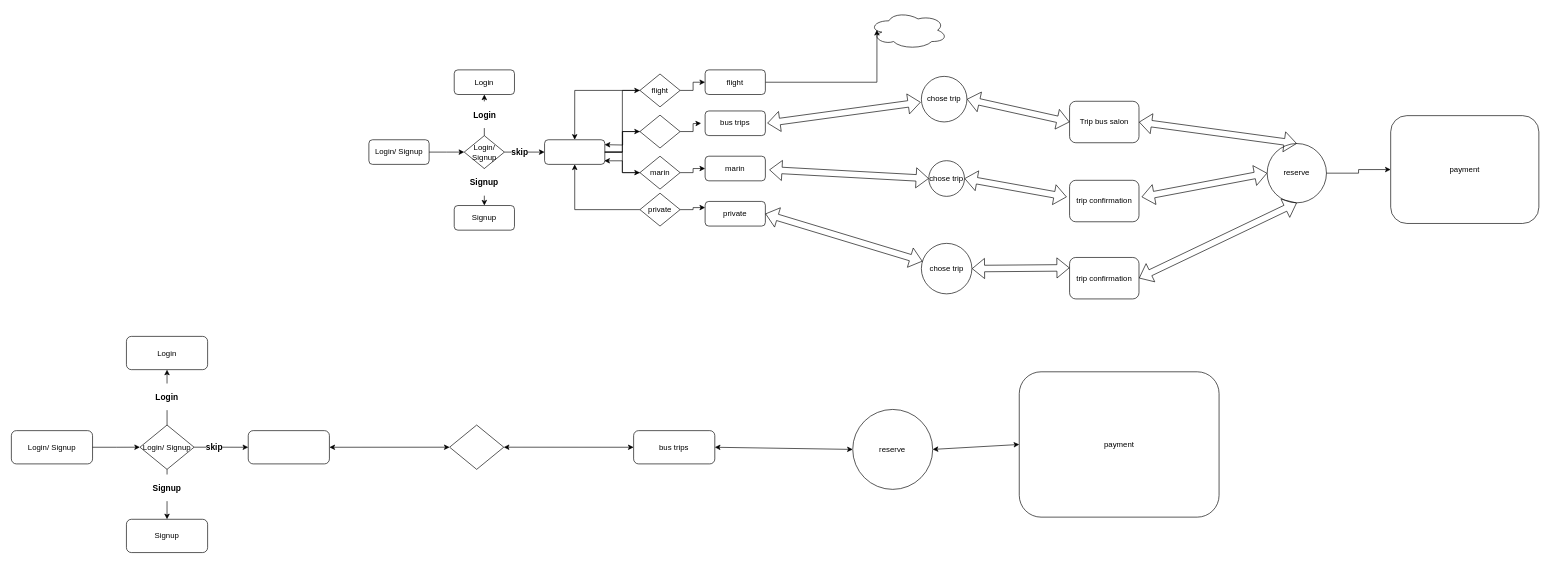
This 1550x564 diagram has some shape labels left out. Each missing label, with the box of its shape:
bud: (639, 114, 680, 148)
Bus: (449, 424, 504, 469)
redirected to sky scanner: (869, 11, 947, 49)
search locations: (248, 430, 329, 464)
Search | location | type of trip: (544, 139, 605, 164)
